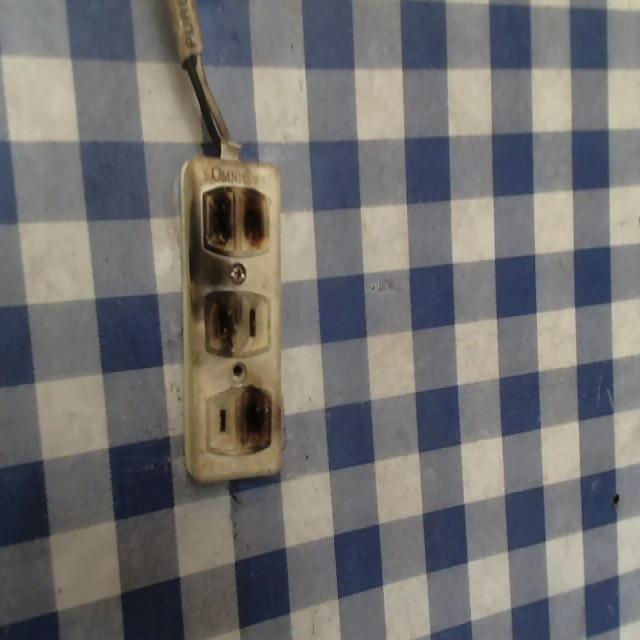-: (195, 178, 278, 258), (199, 278, 243, 358), (231, 384, 277, 456)
